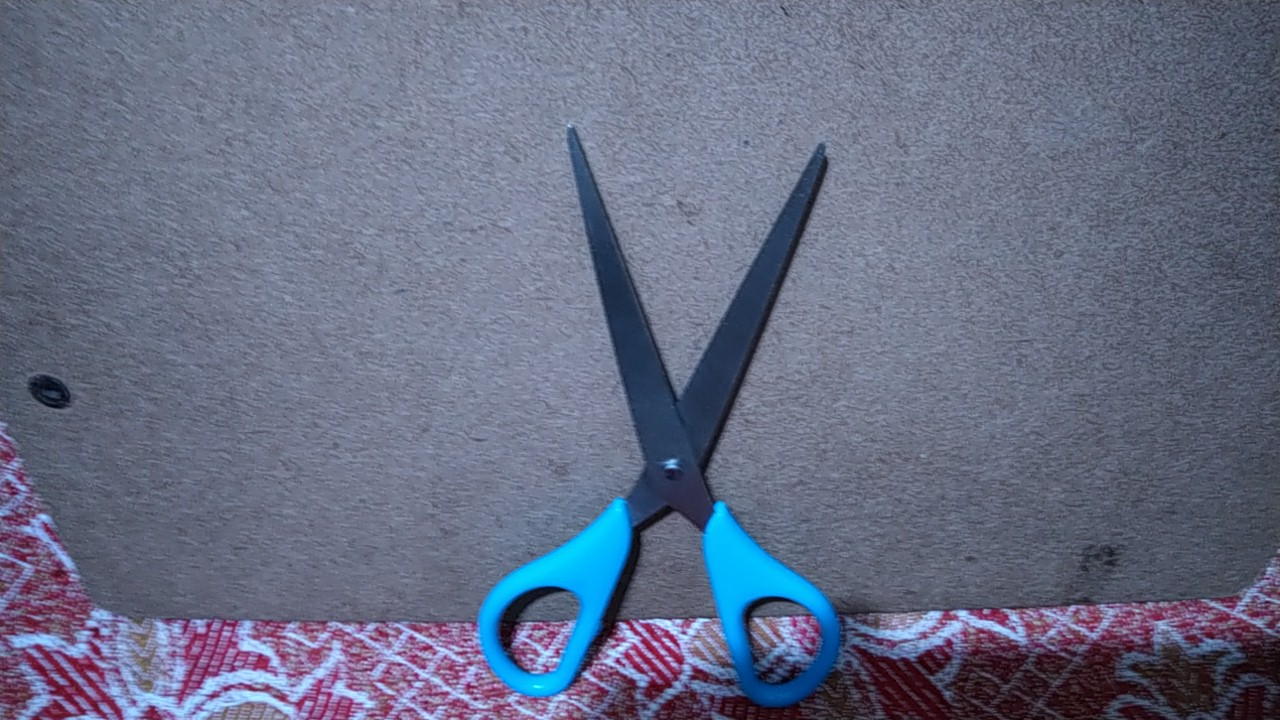scissor: (466, 111, 852, 720)
